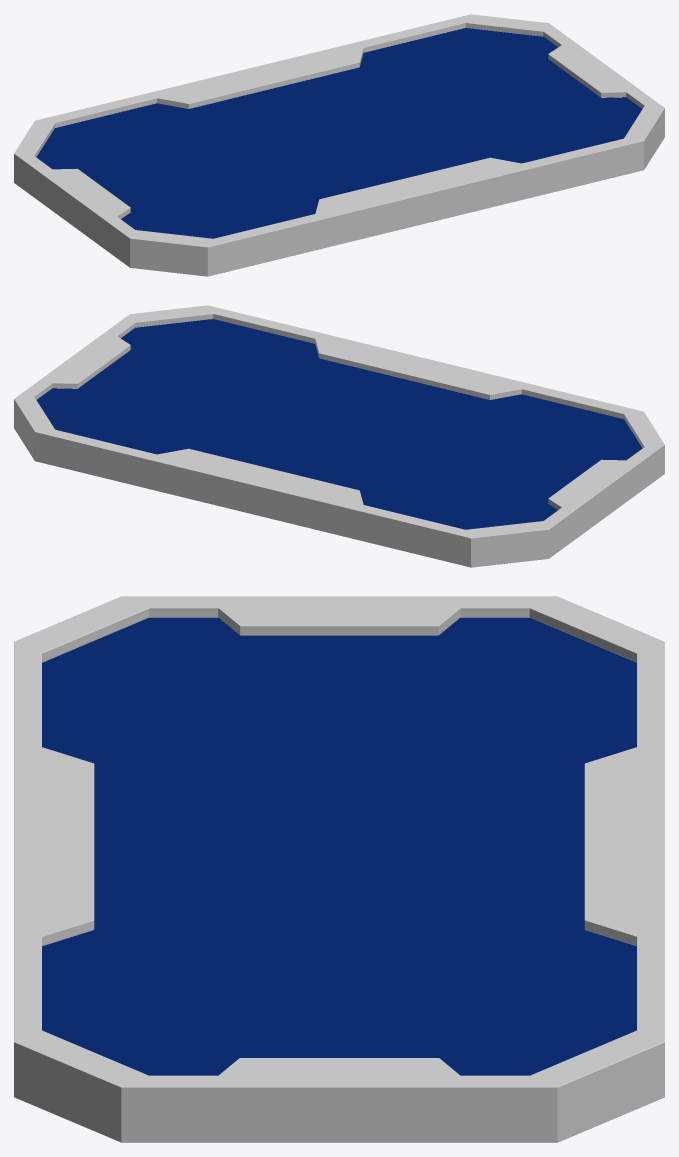
The model's file is GridTable.fbx.
3 renders of one model, top to bottom at view 1: azimuth 30°, elevation 25°; view 2: azimuth 150°, elevation 25°; view 3: azimuth 270°, elevation 25°, orthographic. The views are drawn at different scales.
Parts seen in each view (by area): view 1: Table; view 2: Table; view 3: Table.
Part boxes in pixels (x1,y1,x2,y2): Table: (14, 14, 664, 276); Table: (14, 305, 664, 567); Table: (14, 596, 664, 1142).
Bounding box in the file's own units: 3805 × 200 × 2131.
